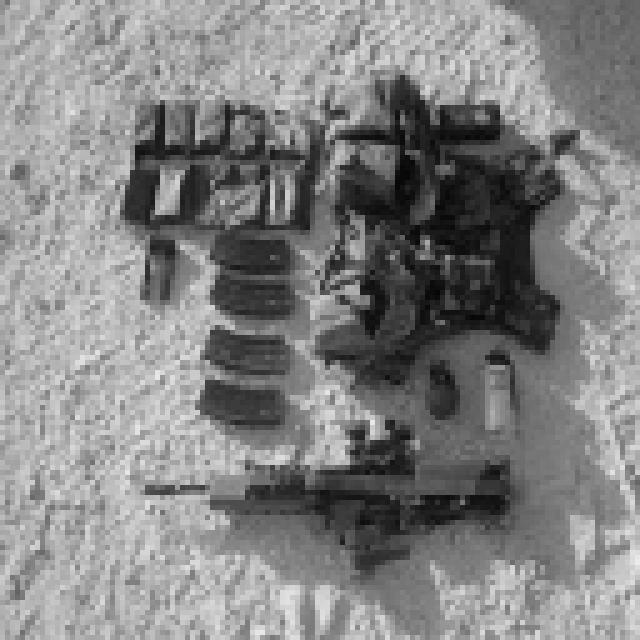Rifle: (138, 392, 552, 640)
